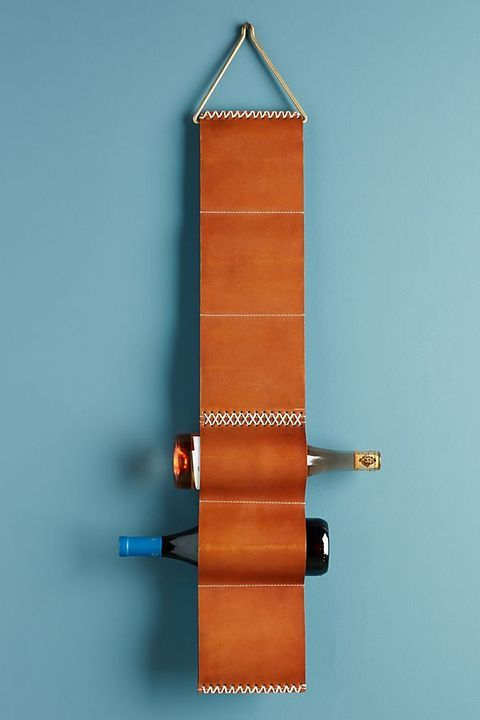cuero: (197, 109, 305, 690)
